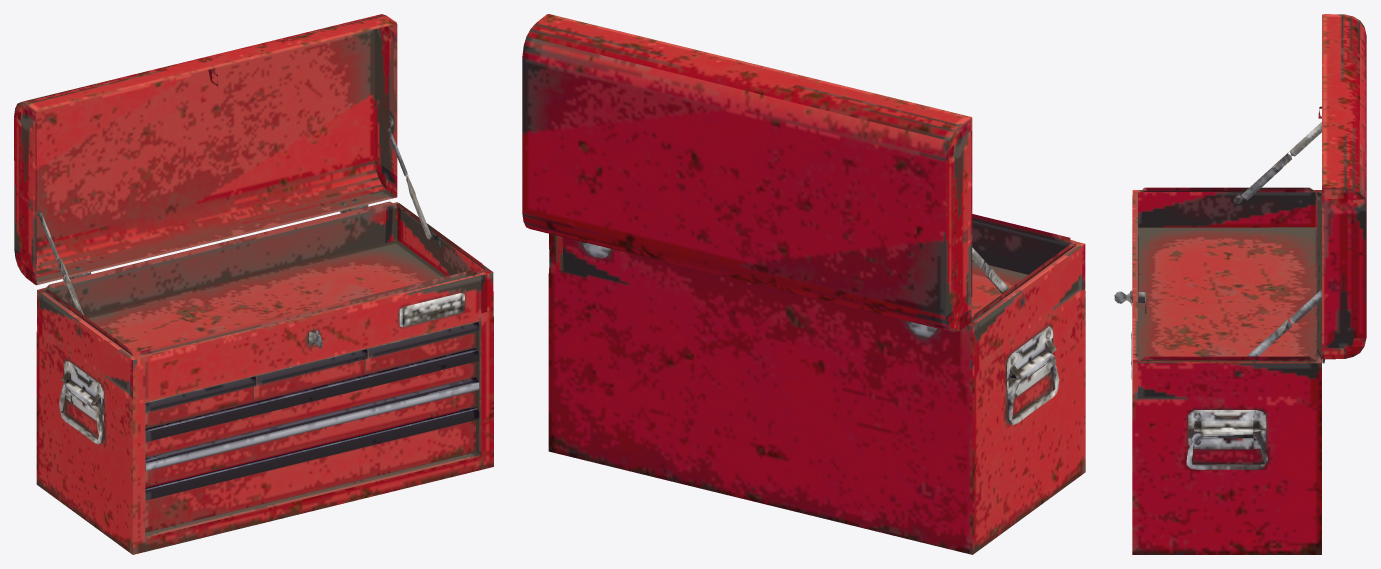
File: chest_pt.glb
3 views of the same model, side by side, from view 1: azimuth 30°, elevation 25°; view 2: azimuth 150°, elevation 25°; view 3: azimuth 270°, elevation 25° (orthographic). The views are drawn at different scales.
Parts seen in each view (by area): view 1: mesh; view 2: mesh; view 3: mesh.
Boxes of the visible parts, x1=… form: mesh: x1=14, y1=14, x2=493, y2=554; mesh: x1=522, y1=14, x2=1085, y2=554; mesh: x1=1114, y1=14, x2=1366, y2=554.
Bounding box in the file's own units: 1.05 × 1 × 0.6216.
Materials: 1 (1 with a texture image).
